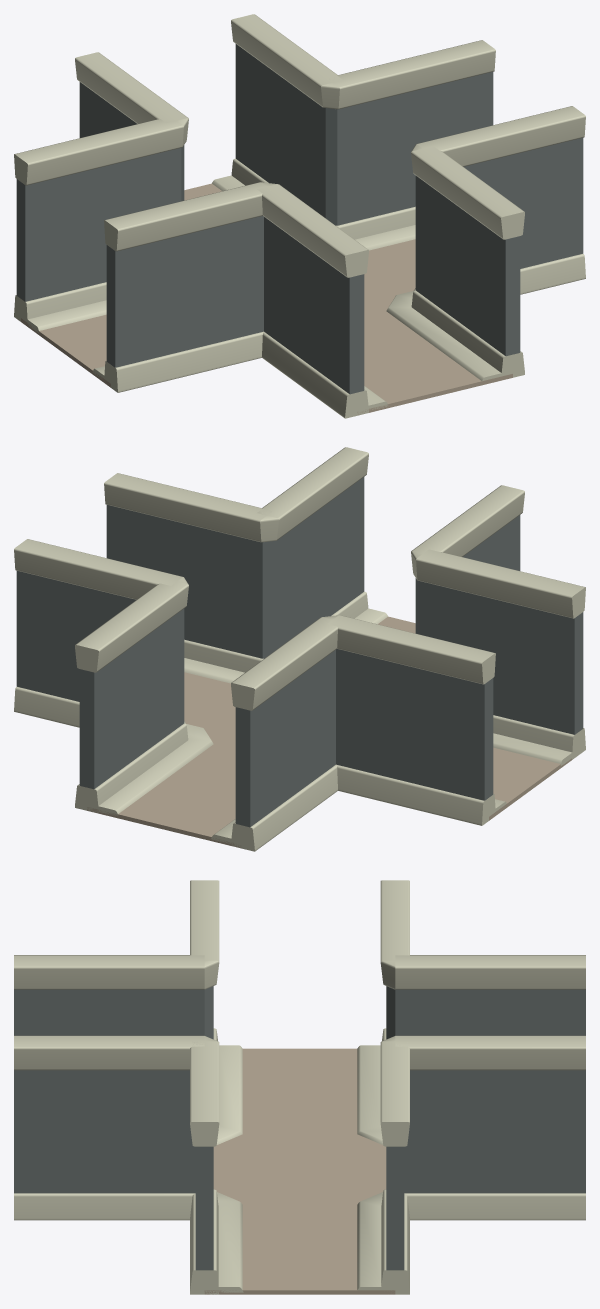
File: HallMedIntersectionx4.fbx
3 views of the same model, one above another, from view 1: azimuth 30°, elevation 25°; view 2: azimuth 150°, elevation 25°; view 3: azimuth 270°, elevation 25° (orthographic). The views are drawn at different scales.
Parts seen in each view (by area): view 1: WallCornerOut.004; view 2: WallCornerOut.004; view 3: WallCornerOut.004.
Part boxes in pixels (x1,y1,x2,y2): WallCornerOut.004: (14, 14, 585, 418); WallCornerOut.004: (14, 447, 585, 851); WallCornerOut.004: (14, 880, 585, 1294).
Bounding box in the file's own units: 1200 × 400 × 1200.
